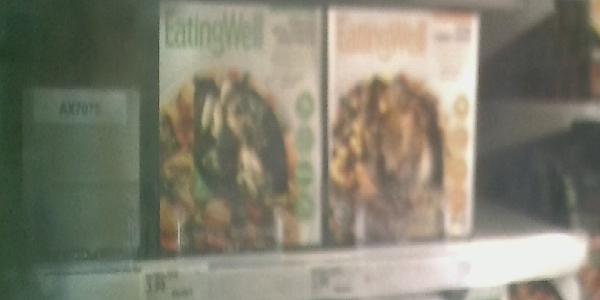pizza1: (161, 1, 321, 249), (327, 4, 472, 241)
